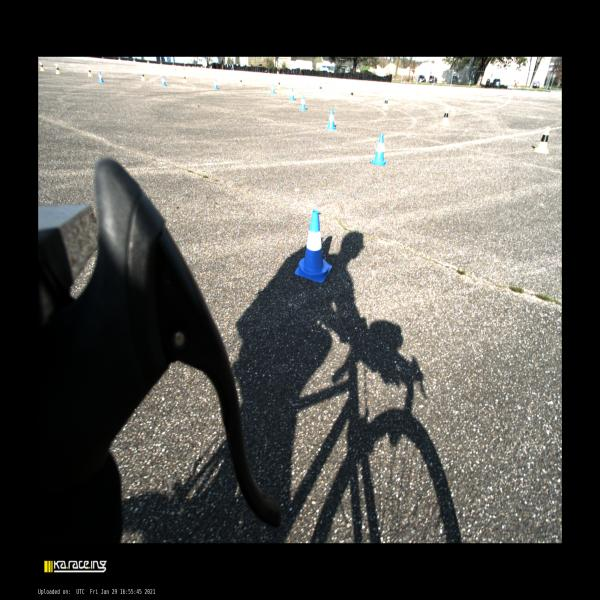blue_cone: (294, 210, 332, 283), (370, 133, 388, 166), (325, 108, 337, 130), (299, 94, 306, 110), (289, 87, 296, 101), (213, 78, 219, 89), (161, 75, 167, 86), (271, 82, 276, 94), (99, 71, 104, 82)
yellow_cone: (534, 126, 550, 153), (439, 107, 449, 126), (382, 96, 389, 110), (140, 70, 146, 80), (348, 90, 354, 100), (87, 67, 92, 77), (238, 76, 243, 86), (40, 62, 45, 71), (318, 84, 323, 93), (56, 64, 60, 74), (277, 80, 281, 89), (183, 74, 187, 82)
